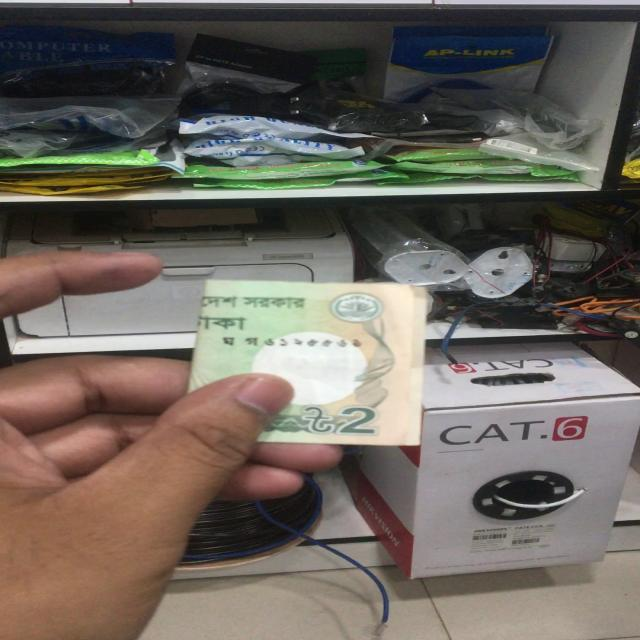Taka: (194, 278, 418, 448)
